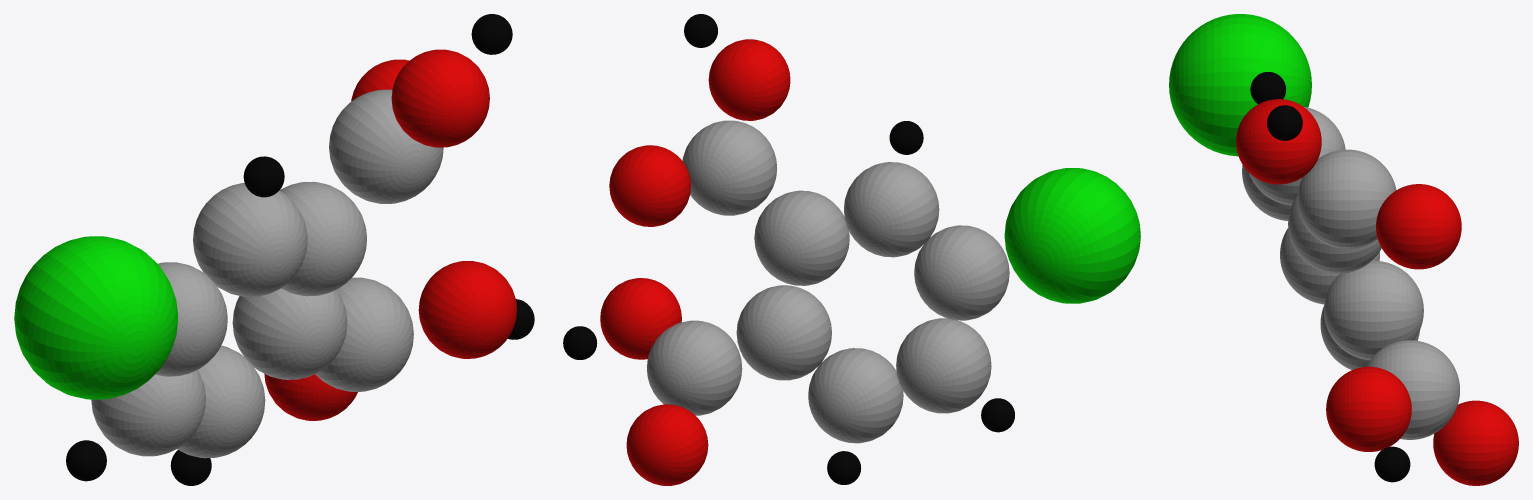
Rendered from Diclofenac.glb.
The picture shows the model from 3 angles, left to right: view 1: azimuth 30°, elevation 25°; view 2: azimuth 150°, elevation 25°; view 3: azimuth 270°, elevation 25°; orthographic projection. The views are drawn at different scales.
Visible parts, largest first — view 1: world; view 2: world; view 3: world.
Part boxes in pixels (box(x1,y1,x2,y2)): world: box(14, 14, 534, 485); world: box(563, 14, 1140, 485); world: box(1169, 14, 1518, 485).
Size of the model in its own units: 8.36 by 6.24 by 4.89.
